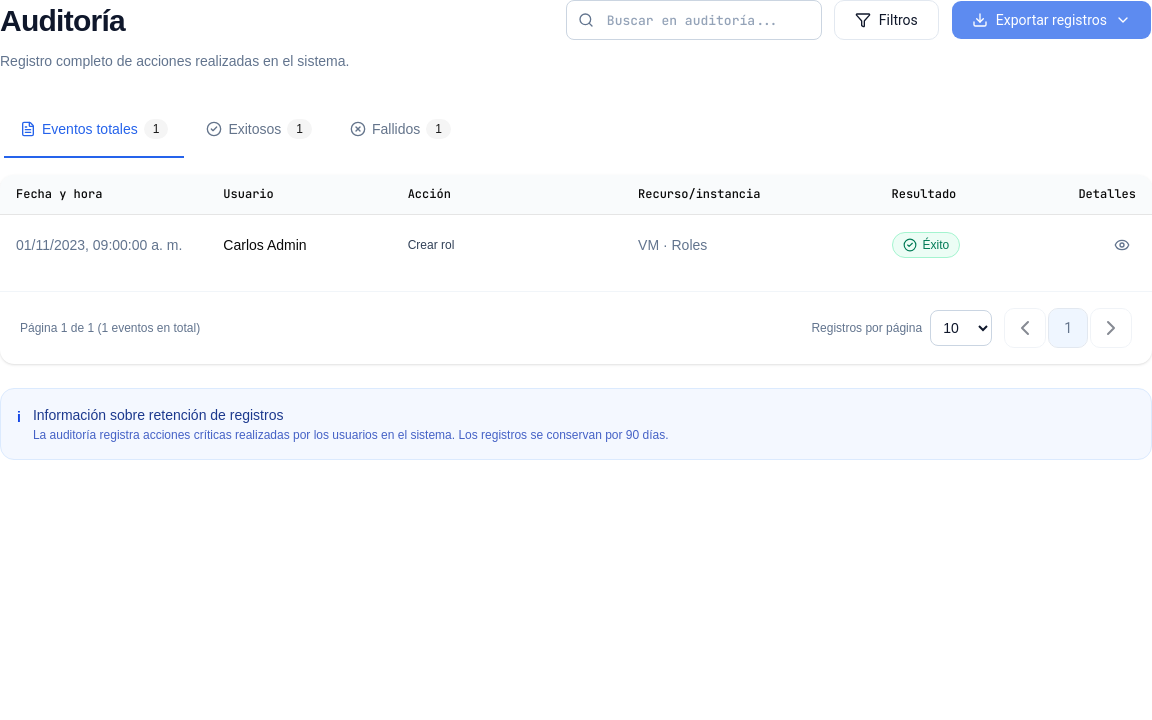
it: AuditoriaPage › Renderizado Inicial: debe solicitar la primera página y renderizar las filas simuladas
Expected: the text "Carlos Admin" is shown, [223, 237, 307, 253]
Expected: the text "VM · Roles" is shown, [622, 215, 876, 275]
Click the button "Filtros" at (886, 20), box [834, 0, 939, 40]
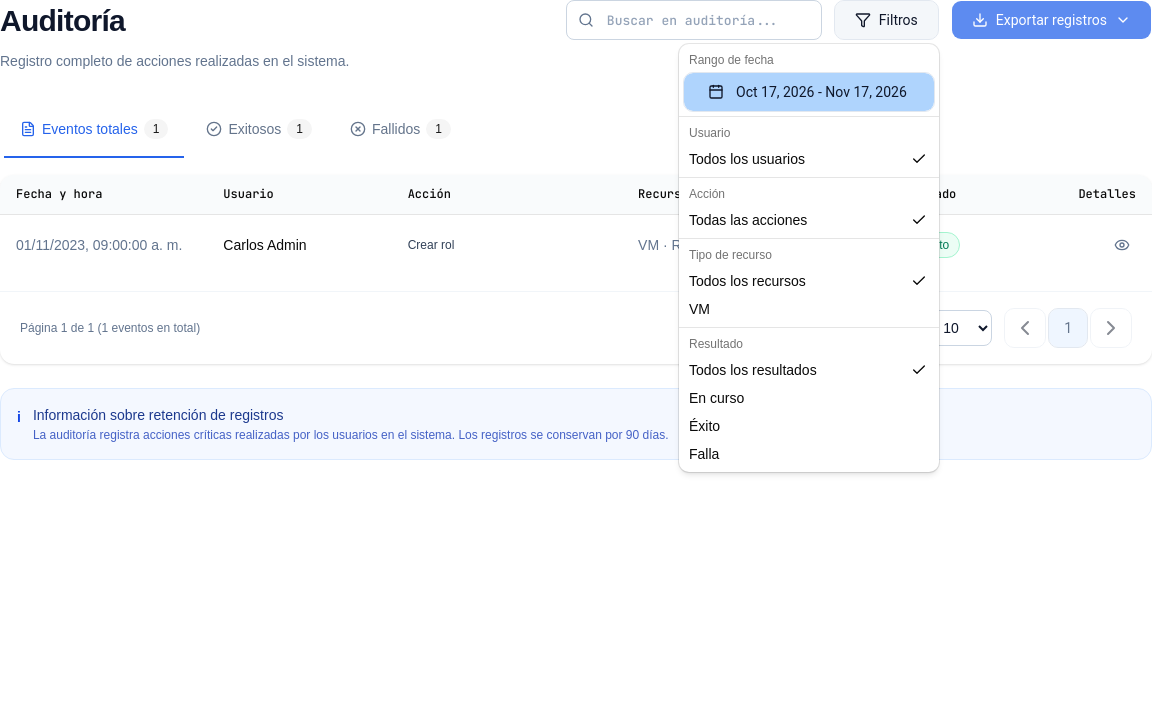
Now the button with aria-label "Desde / Hasta" is shown, box [683, 72, 935, 112]
Press Escape
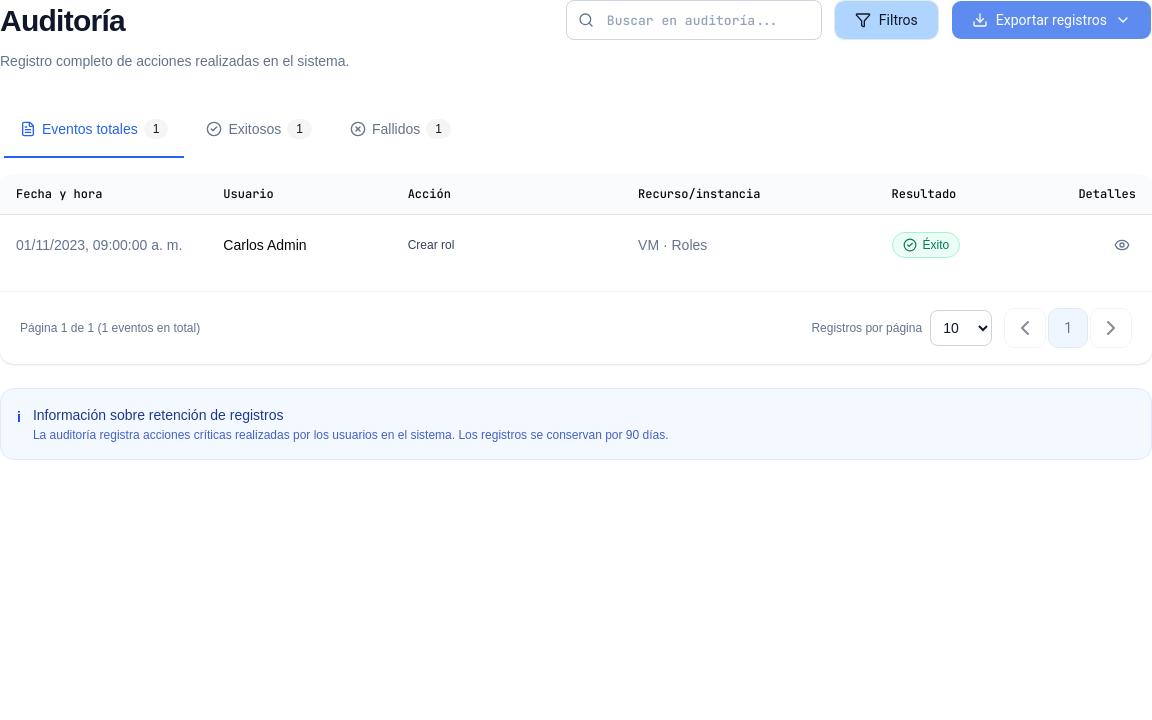
Click the button named "ver detalles" at (1122, 245), box [1108, 231, 1136, 259]
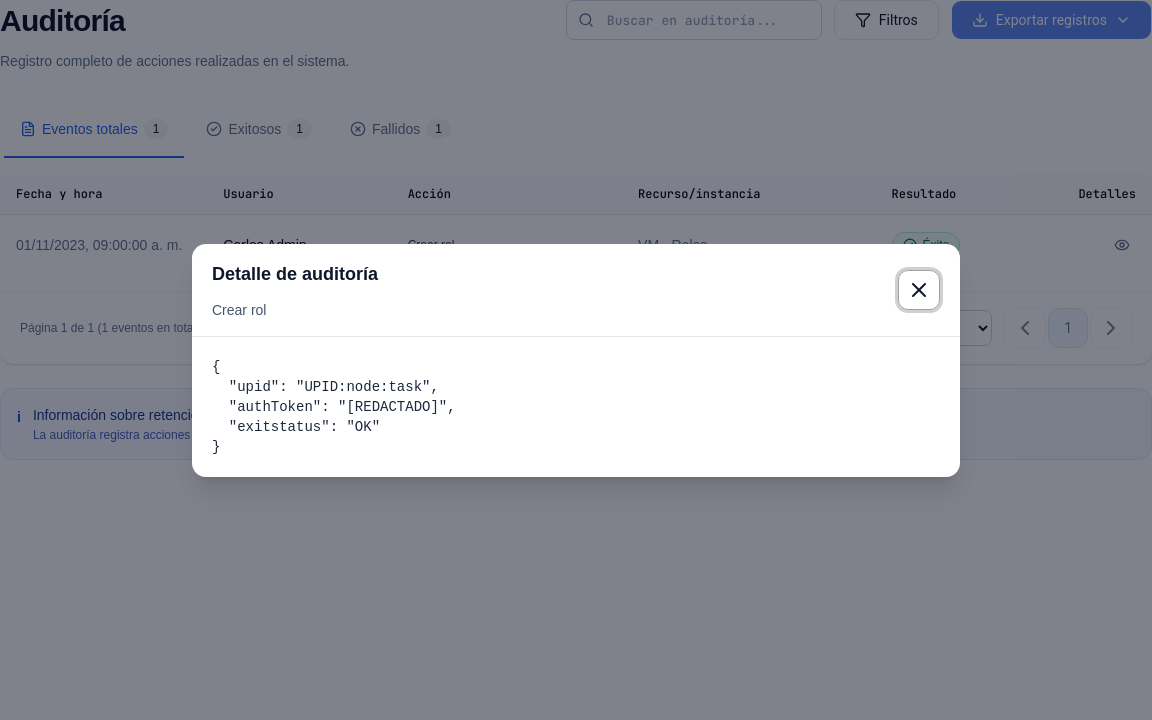
Expected: the dialog "Detalle de auditoría" does not show "secret-value", [192, 244, 960, 476]
Now the dialog "Detalle de auditoría" shows "UPID:node:task", box [212, 358, 456, 454]
Now the dialog "Detalle de auditoría" shows "[REDACTADO]", box [212, 358, 456, 454]
